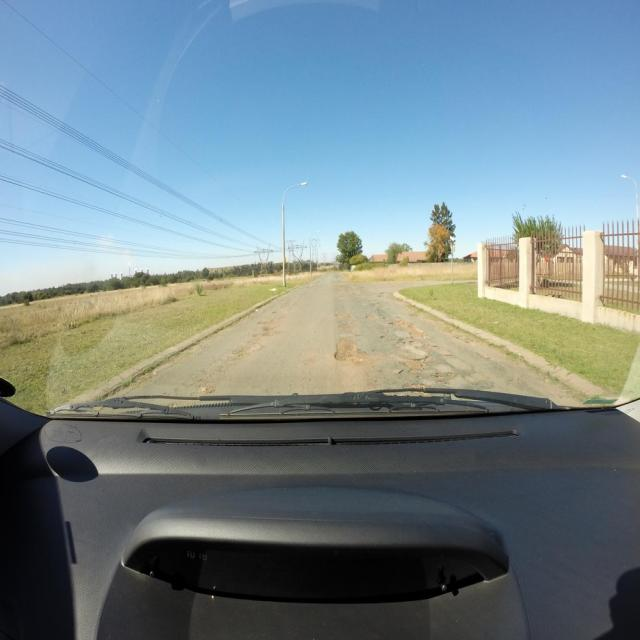Pothole: (334, 336, 368, 361), (392, 319, 428, 340), (400, 357, 431, 373), (256, 318, 280, 336), (232, 344, 261, 357), (333, 311, 352, 328), (198, 385, 216, 393), (366, 314, 376, 321)
